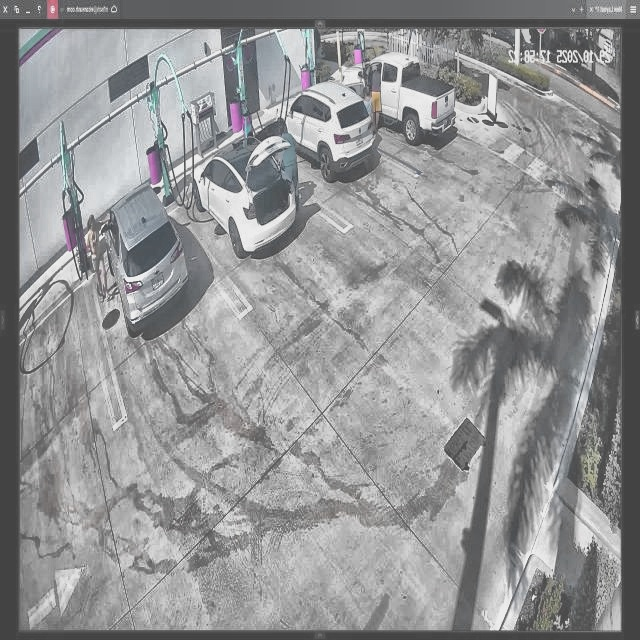Car: (193, 130, 299, 261), (102, 184, 191, 337), (278, 80, 382, 183)
